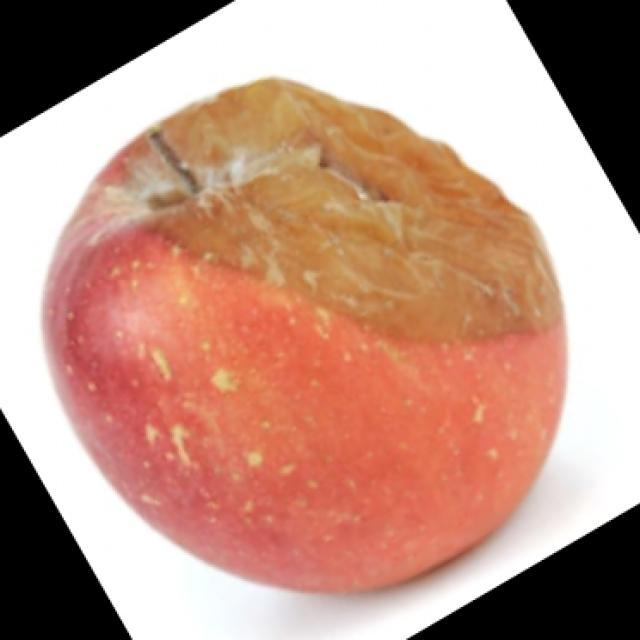Rotten: (53, 66, 567, 586)
